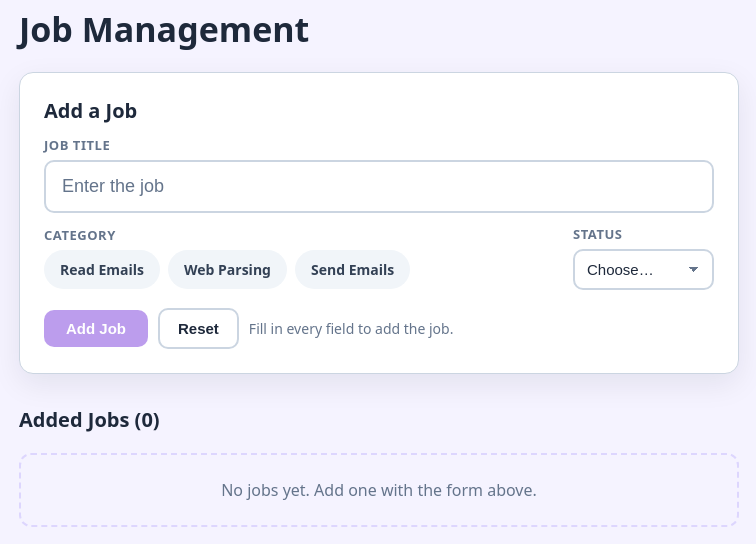
Test: submit is disabled until every field is filled
The image size is (756, 544).
Expected: the button "Add Job" is disabled, [44,310,148,347]
Type "Check inbox" into the field labelled "Job title" at (379, 186), box [44,160,714,213]
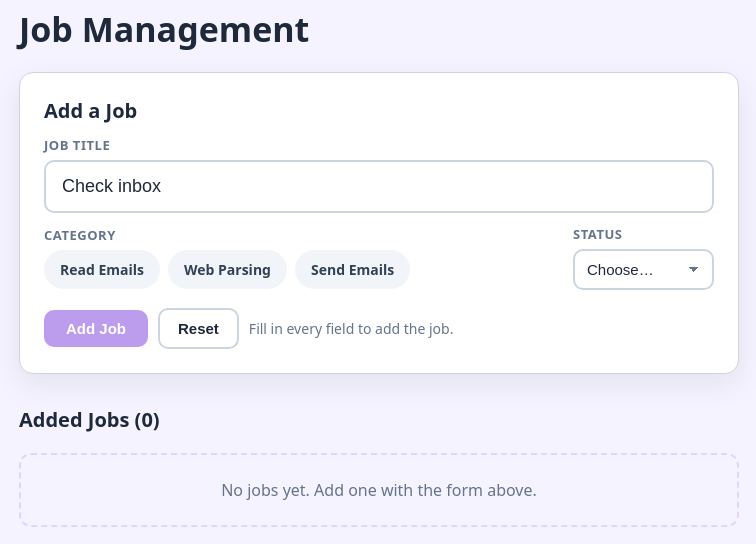
Click the radio button labelled "Read Emails" at (102, 270), box [44,250,160,289]
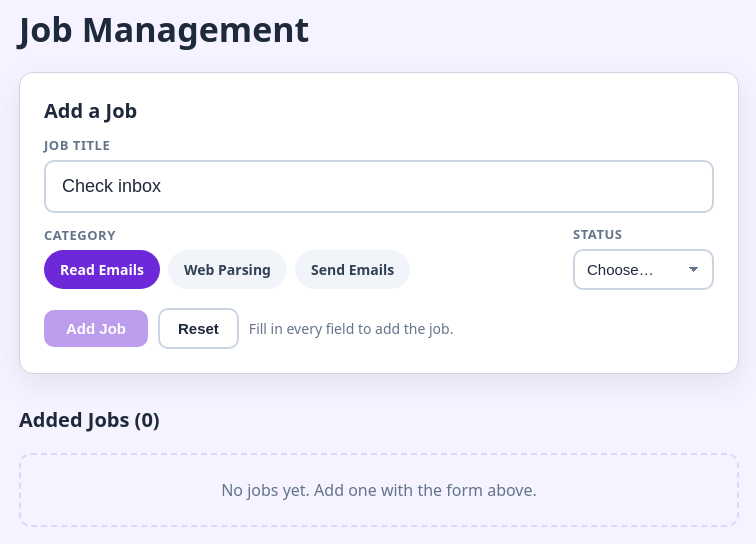
Select "In Progress" in the dropdown labelled "Status" at (644, 270), box [573,249,714,290]
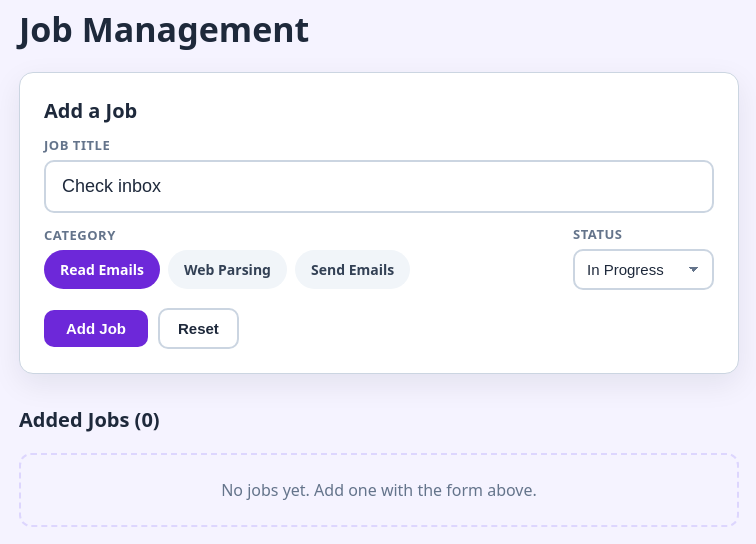
Result: the button "Add Job" is enabled at [44,310,148,347]
